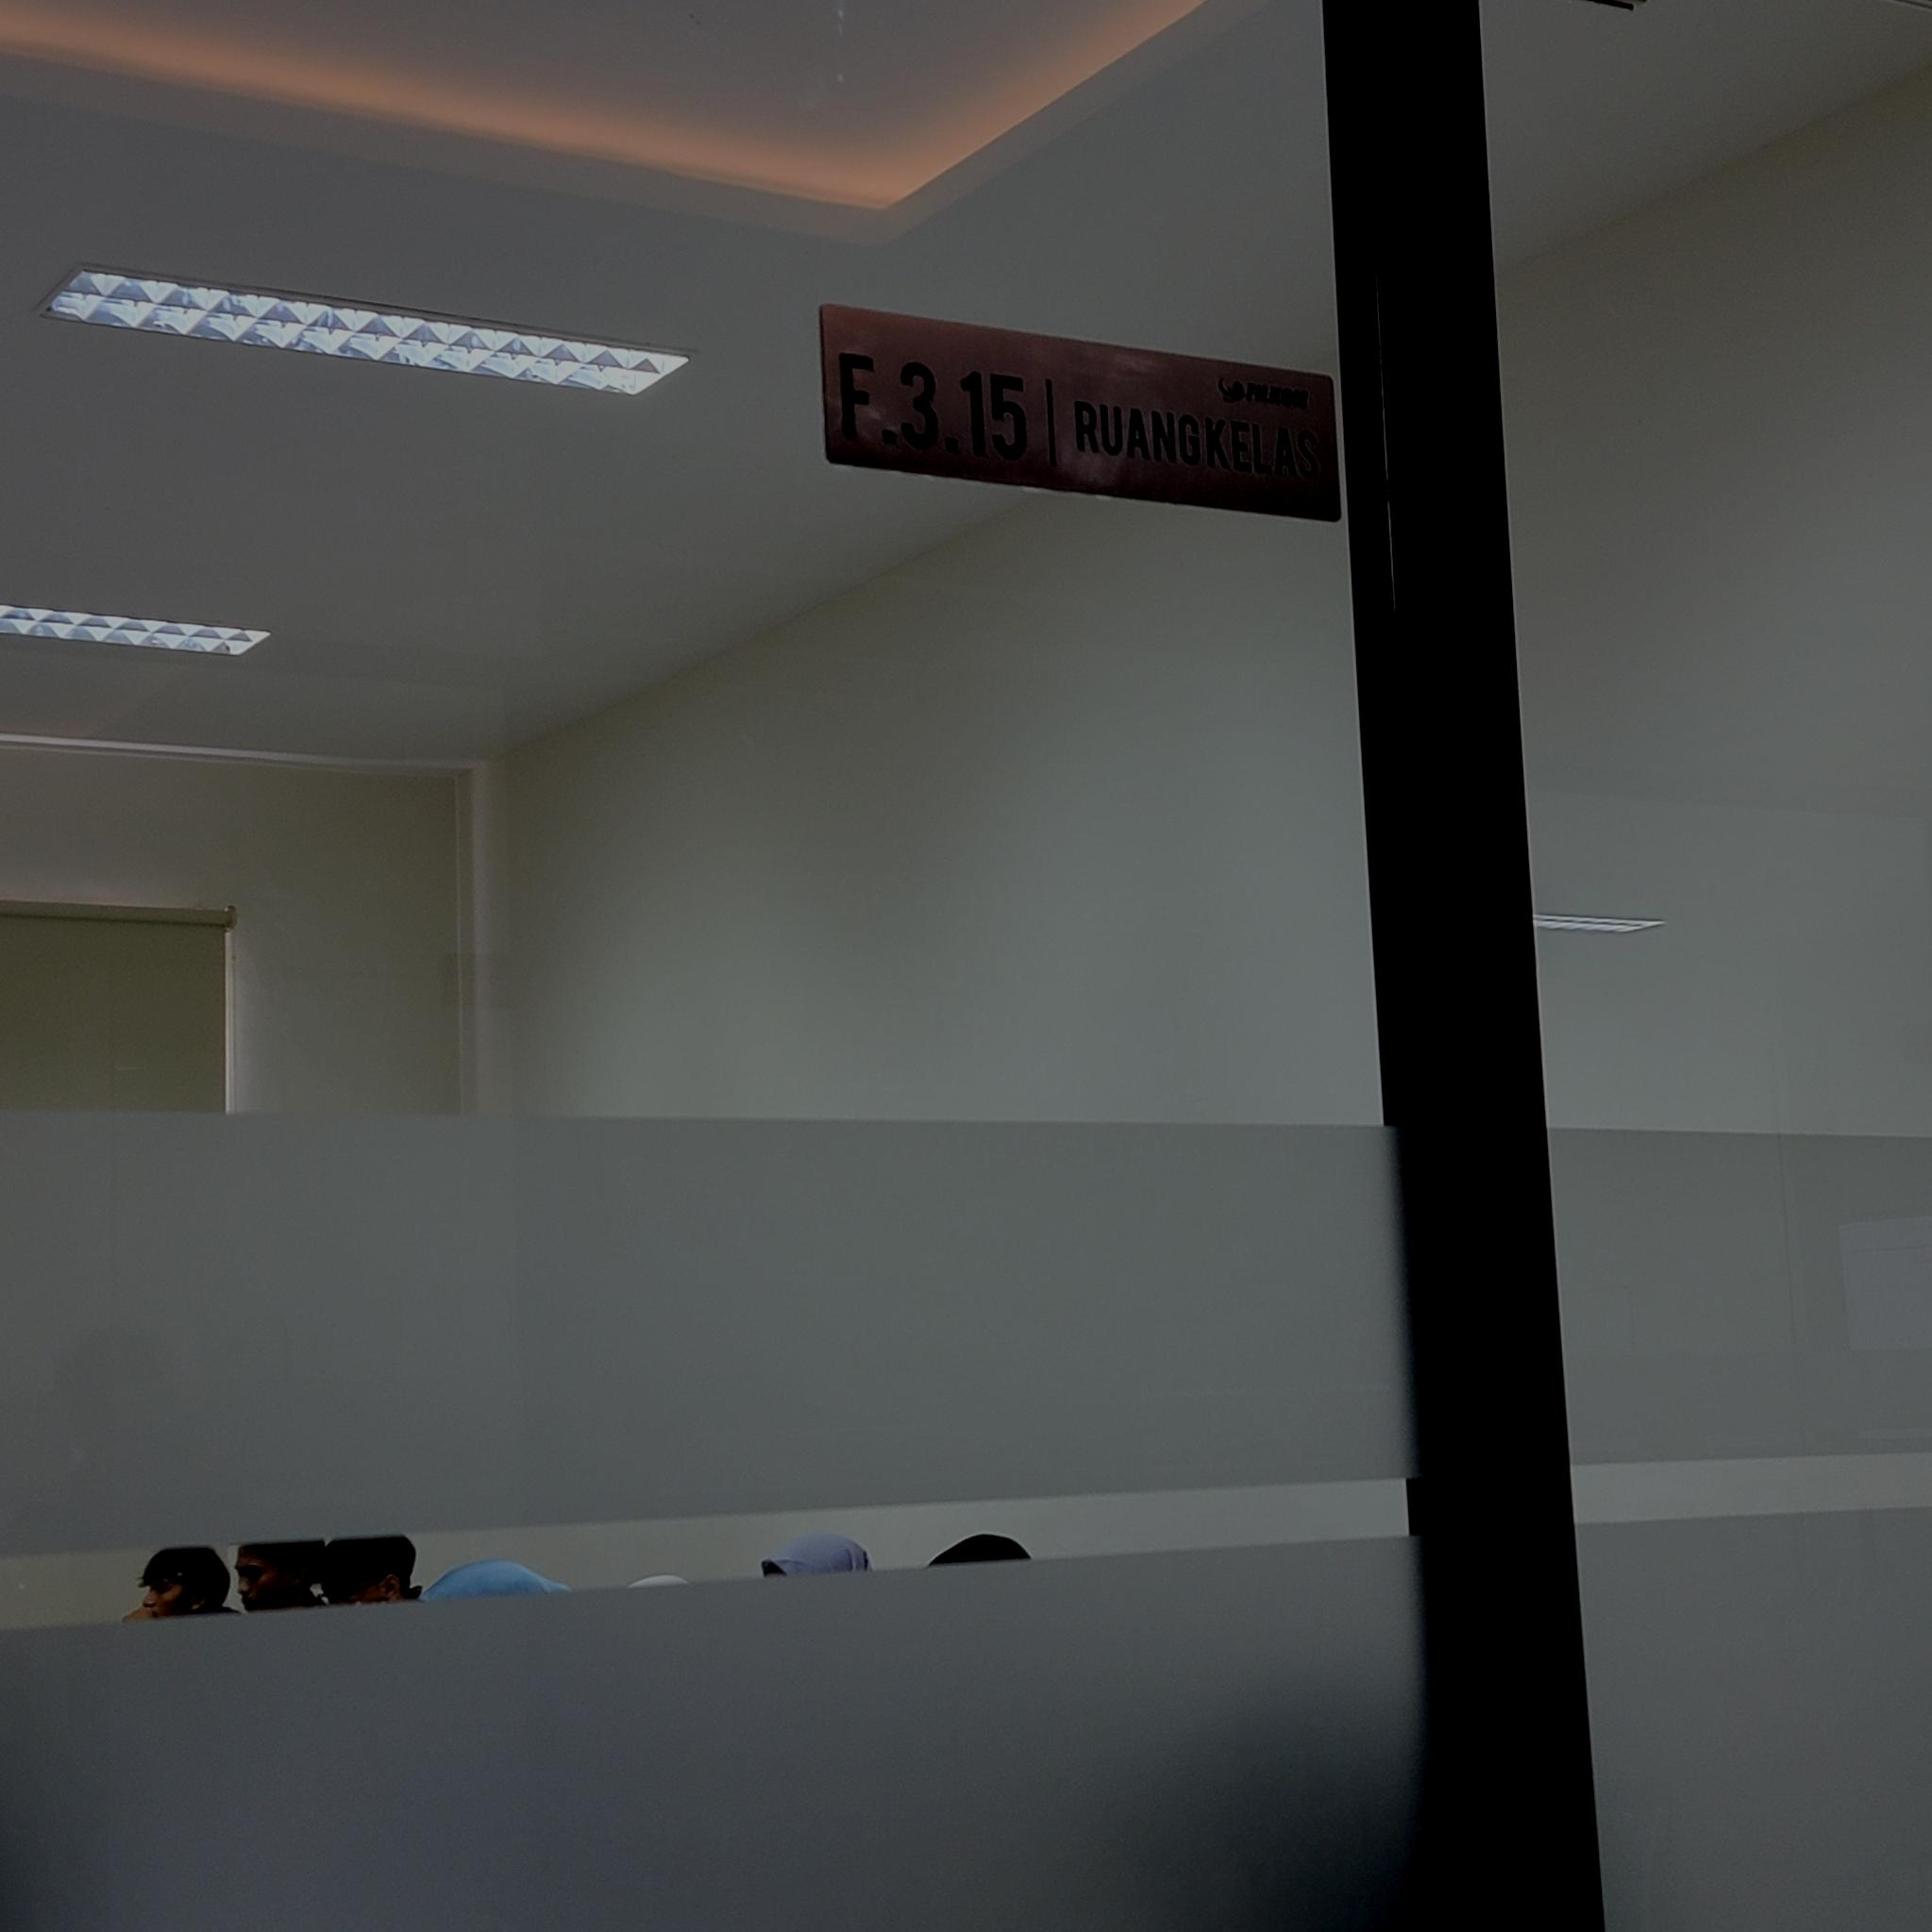plate: (821, 301, 1343, 522)
